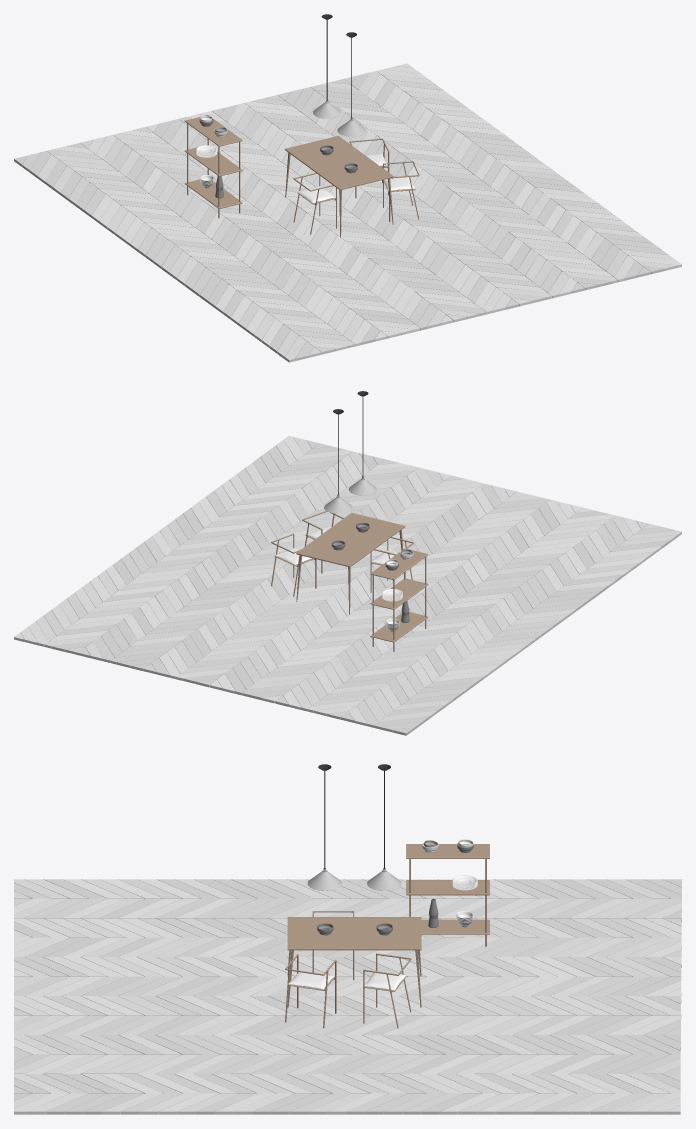
File: room3Draco.gltf
3 renders of one model, top to bottom at view 1: azimuth 30°, elevation 25°; view 2: azimuth 150°, elevation 25°; view 3: azimuth 270°, elevation 25°, orthographic. The views are drawn at different scales.
Visible parts, largest first — view 1: Floor, Cube.003, Cube.017, Cube.016, Cube.015, Cylinder.001; view 2: Floor, Cube.003, Cube.016, Cube.017, Cube.015, Cylinder; view 3: Floor, Cube.003, Cube.016, Cube.015, Cube.017, Cylinder, Cylinder.001, Cube.005, Cube.011.
Boxes of the visible parts, box(x1,y1,x2,y2) form: Floor: box(14, 63, 681, 362); Cube.003: box(284, 136, 393, 237); Cube.017: box(184, 179, 242, 208); Cube.016: box(184, 145, 242, 176); Cube.015: box(184, 115, 242, 146); Cylinder.001: box(313, 14, 341, 118); Floor: box(14, 436, 681, 735); Cube.003: box(296, 512, 405, 614); Cube.016: box(370, 578, 428, 609); Cube.017: box(370, 612, 428, 642); Cube.015: box(370, 548, 428, 579); Cylinder: box(348, 391, 377, 495); Floor: box(14, 879, 681, 1114); Cube.003: box(287, 917, 421, 1007); Cube.016: box(406, 880, 489, 895); Cube.015: box(406, 844, 489, 858); Cube.017: box(421, 919, 489, 934); Cylinder: box(307, 764, 342, 890); Cylinder.001: box(367, 764, 401, 890); Cube.005: box(285, 954, 336, 1027); Cube.011: box(363, 953, 411, 1028).
Bounding box in the file's own units: 58.56 × 26.76 × 71.09.
